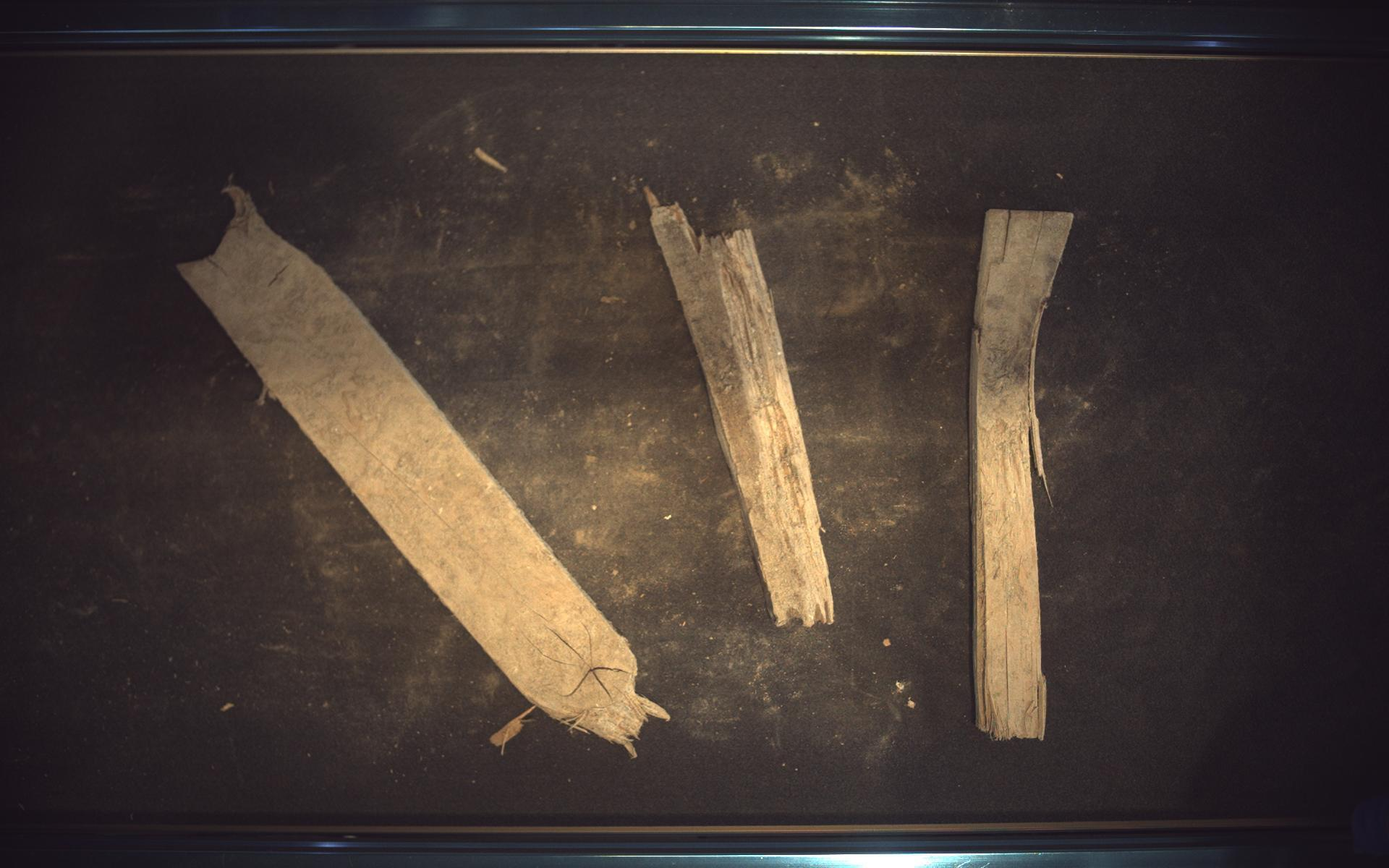wood: (178, 185, 670, 758), (645, 186, 835, 627), (972, 208, 1076, 741)
